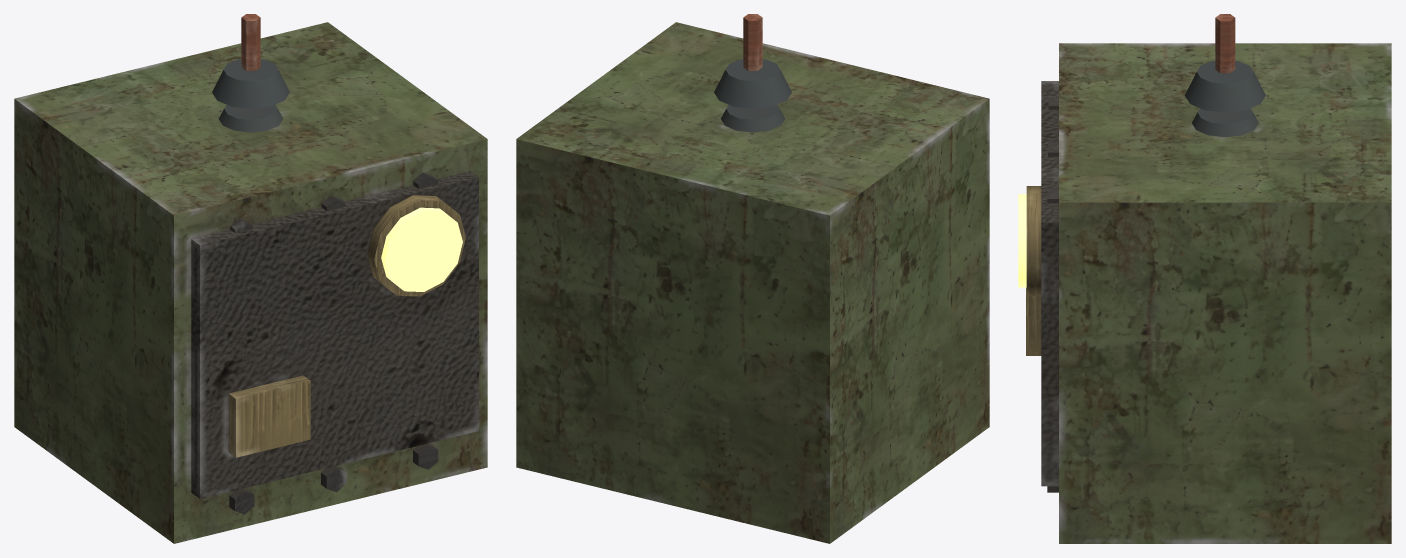
File: feSignalReceiver_HD.fbx
3 renders of one model, left to right at view 1: azimuth 30°, elevation 25°; view 2: azimuth 150°, elevation 25°; view 3: azimuth 270°, elevation 25°, orthographic. The views are drawn at different scales.
Parts seen in each view (by area): view 1: feSignalReceiver_Base; view 2: feSignalReceiver_Base; view 3: feSignalReceiver_Base.
Boxes of the visible parts, box(x1,y1,x2,y2) form: feSignalReceiver_Base: box(14, 14, 487, 543); feSignalReceiver_Base: box(516, 14, 989, 543); feSignalReceiver_Base: box(1018, 14, 1391, 543).
Size of the model in its own units: 0.3412 by 0.4466 by 0.338.
2 materials, 1 textured.
